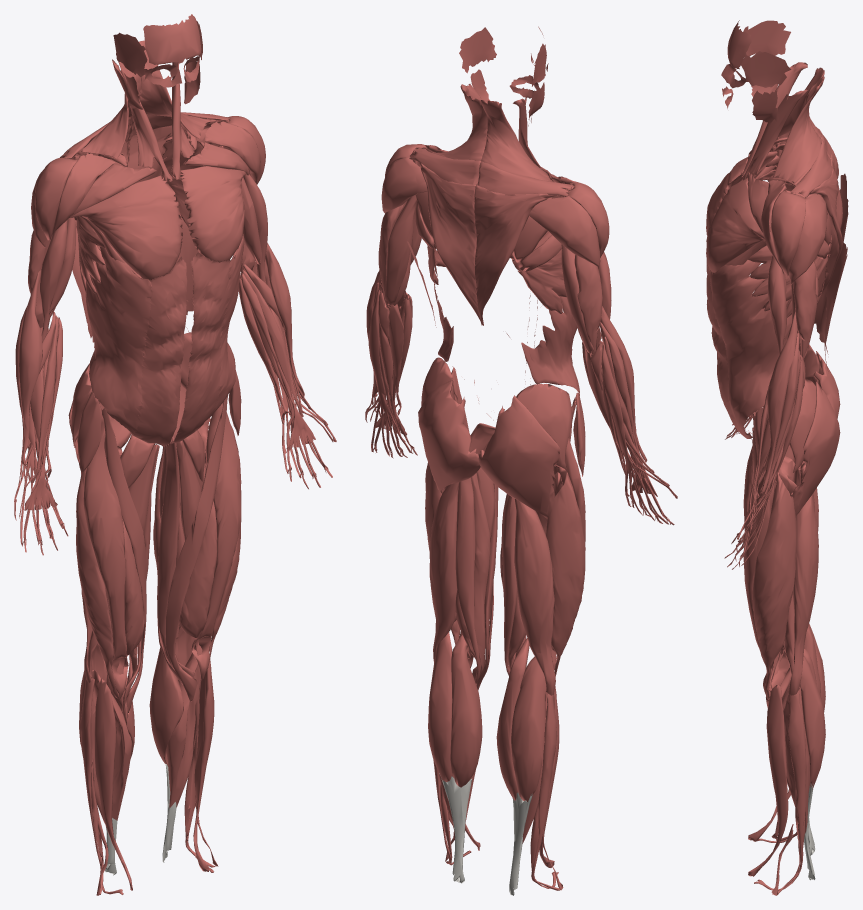
Rendered from musculos.l.glb.
3 renders of one model, left to right at view 1: azimuth 30°, elevation 25°; view 2: azimuth 150°, elevation 25°; view 3: azimuth 270°, elevation 25°, orthographic. The views are drawn at different scales.
Parts seen in each view (by area): view 1: capa; view 2: capa; view 3: capa.
Part boxes in pixels (bbox=[...]): capa: bbox=[14, 14, 336, 895]; capa: bbox=[365, 26, 677, 895]; capa: bbox=[706, 20, 848, 895].
Bounding box in the file's own units: 0.6388 × 1.66 × 0.2547.
